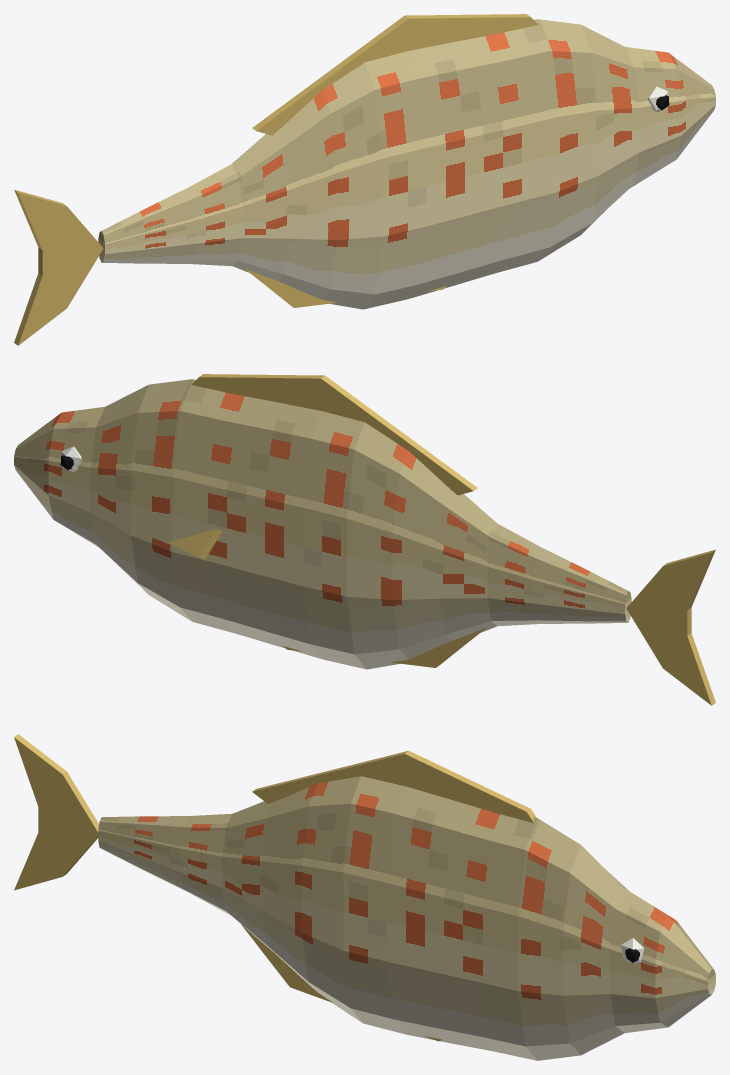
Rendered from painted_sweetlips.glb.
3 views of the same model, one above another, from view 1: azimuth 30°, elevation 25°; view 2: azimuth 150°, elevation 25°; view 3: azimuth 330°, elevation 25° (orthographic).
Parts seen in each view (by area): view 1: fish_painted_sweetlips; view 2: fish_painted_sweetlips; view 3: fish_painted_sweetlips.
Boxes of the visible parts, x1,y1,x2,y2 form: fish_painted_sweetlips: [14, 14, 715, 345]; fish_painted_sweetlips: [14, 374, 715, 705]; fish_painted_sweetlips: [14, 734, 715, 1060].
Size of the model in its own units: 1.14 by 0.4423 by 0.1417.
Materials: 4 (1 with a texture image).
